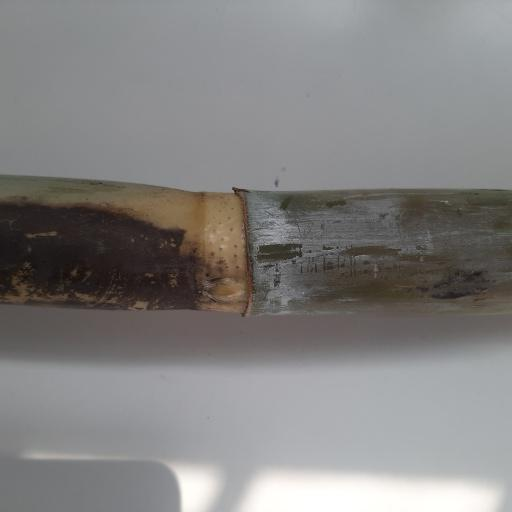Bud: (204, 277, 246, 305)
